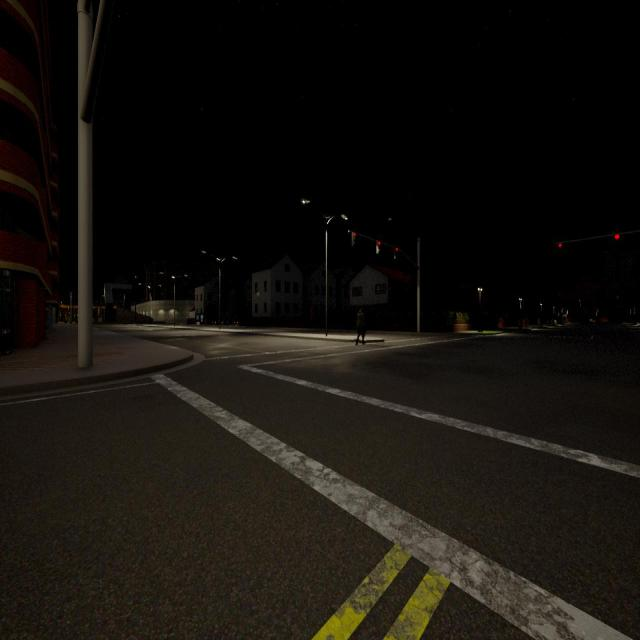Pedestrian: (356, 308, 366, 345)
traffic_light: (352, 231, 356, 246), (376, 240, 380, 253), (614, 234, 620, 240), (395, 248, 398, 258), (558, 243, 562, 248)
